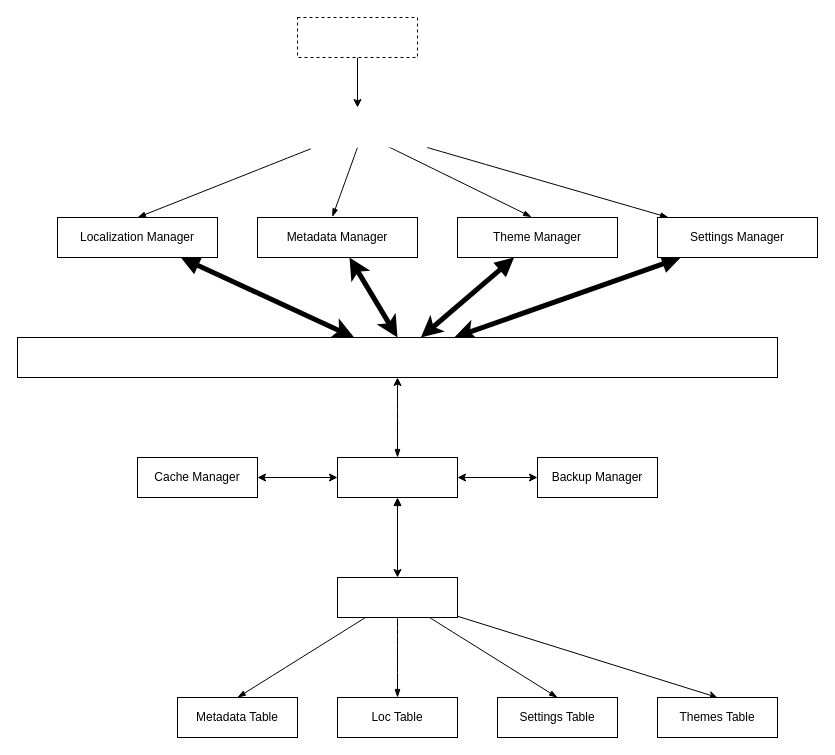
Some shapes in this 835 by 755 pixel diagram are drawn without their labels. Here are the shapes that lost their labels. From the top down, the centre of each, then its label:
At pixel 357 37: "Core".
At pixel 397 357: "Query Processor".
At pixel 397 477: "Database Connector".
At pixel 397 597: "SQLite DB".
